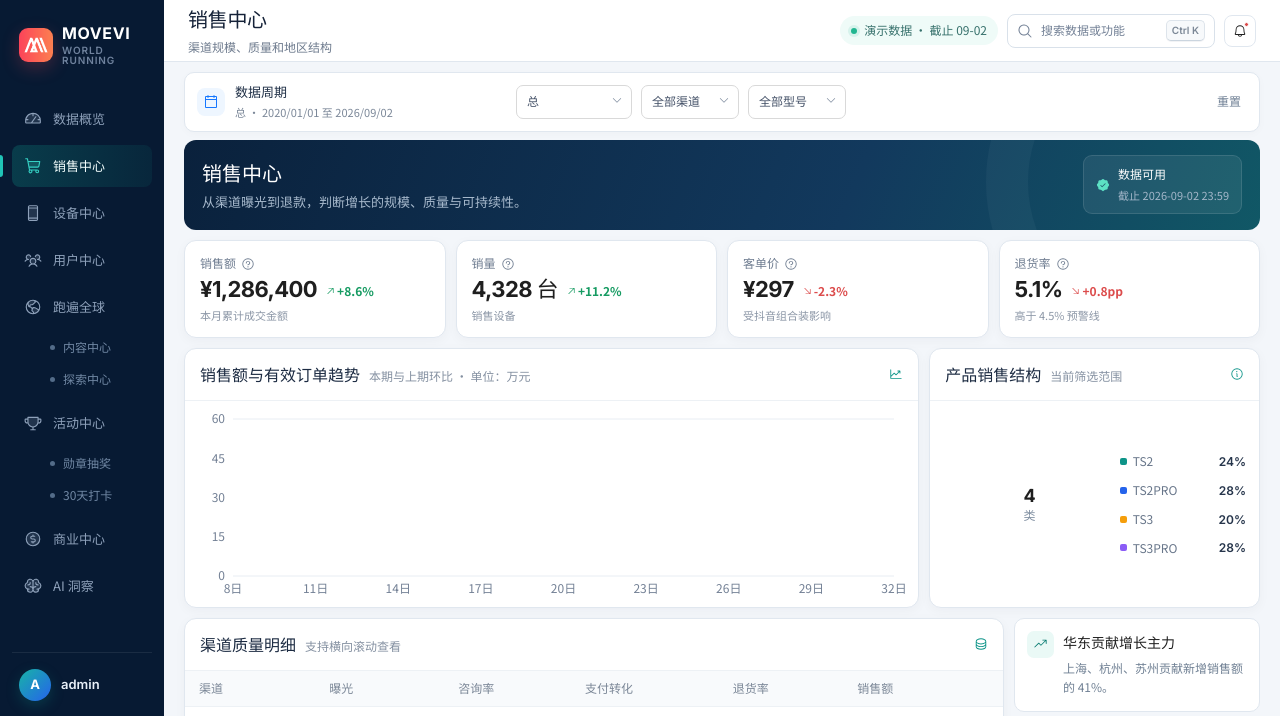
Test: MOVEVI dashboard › keeps the channel filter exclusive to sales
Select "天猫" in the dropdown named "渠道" at (690, 102), box [641, 85, 739, 119]
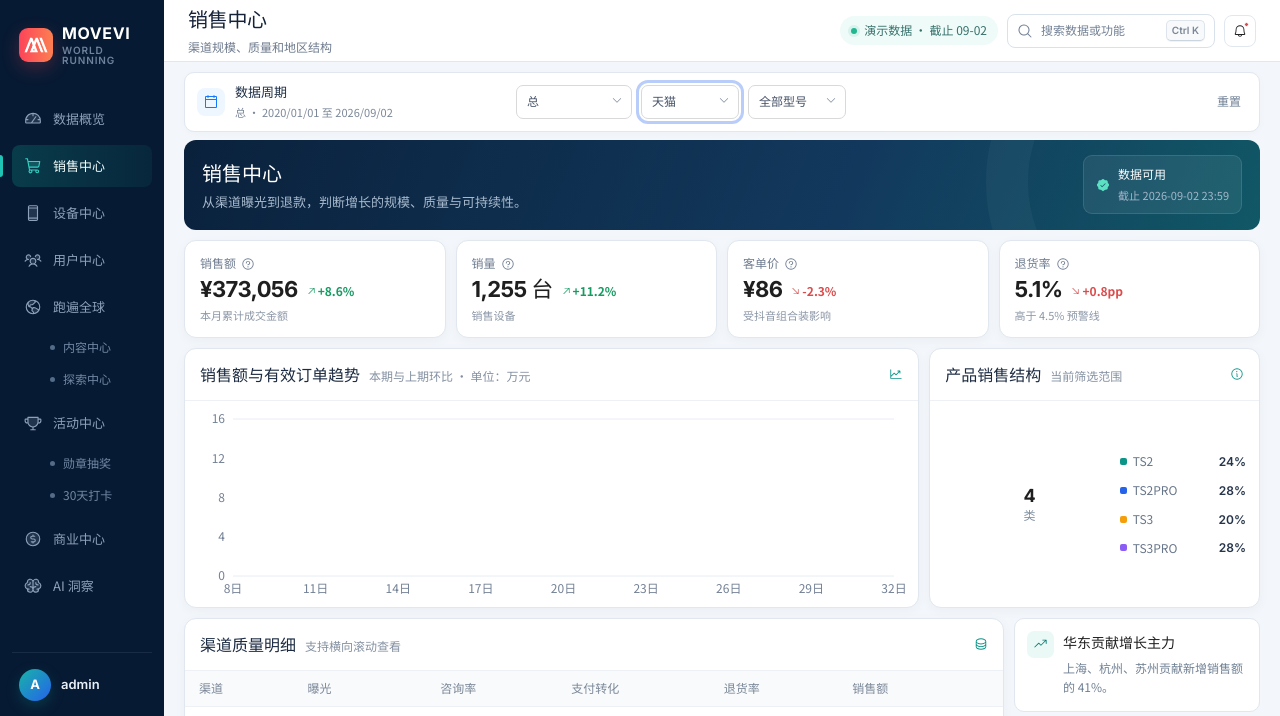
Select "TS3PRO" in the dropdown named "型号" at (797, 102), box [748, 85, 846, 119]
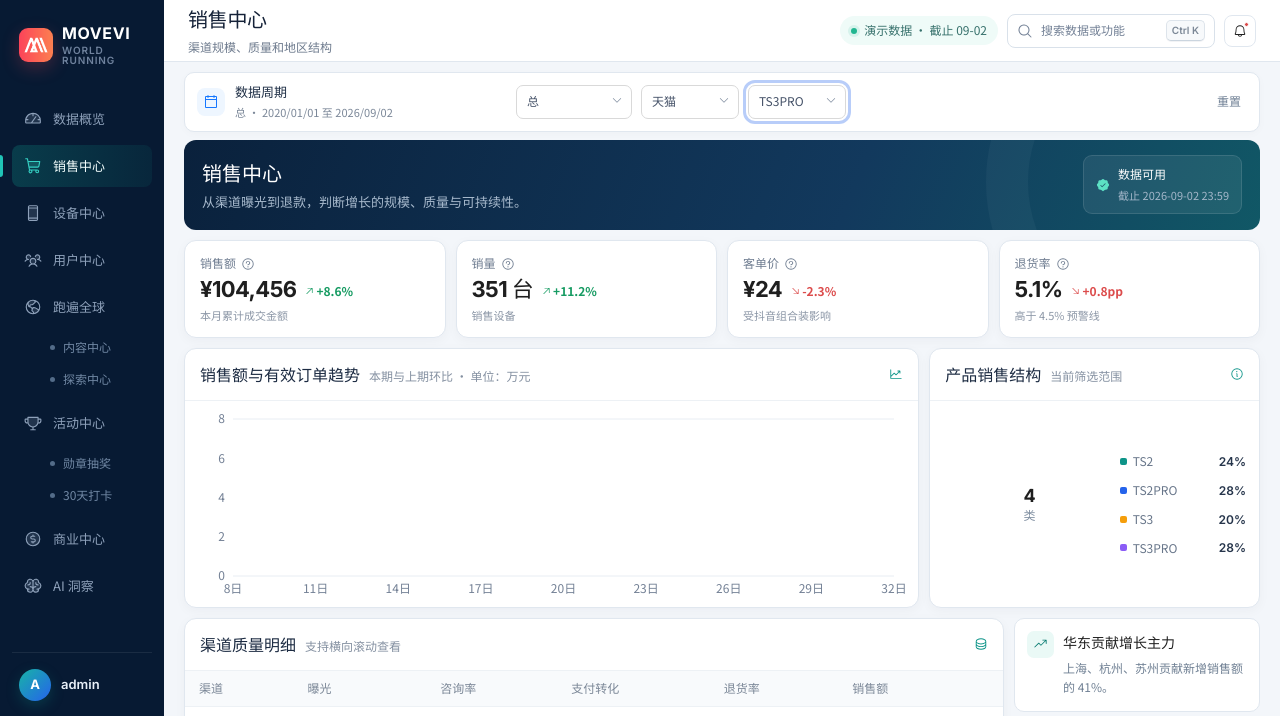
Click the link "设备中心".
click(64, 212)  # box [24, 203, 105, 222]
(page scrolled)
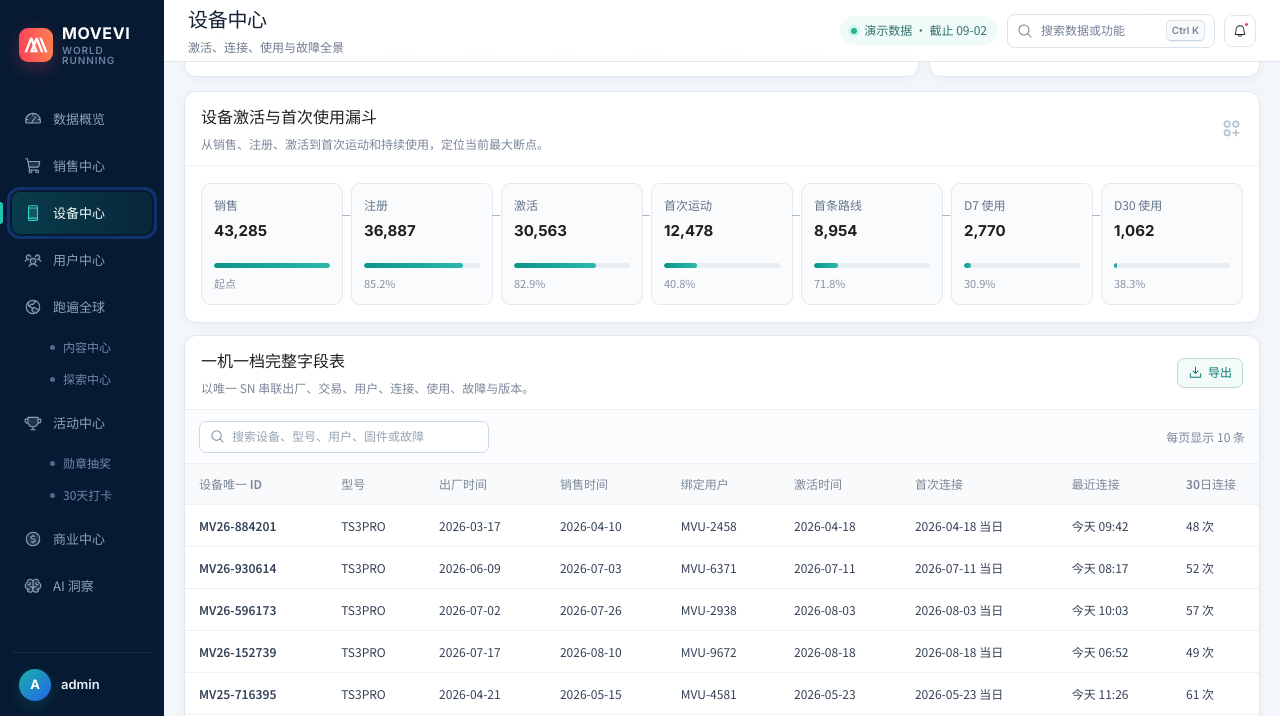
Check: the heading "一机一档完整字段表" is shown, box [201, 348, 345, 372]
Check: the text labelled "渠道" is gone
